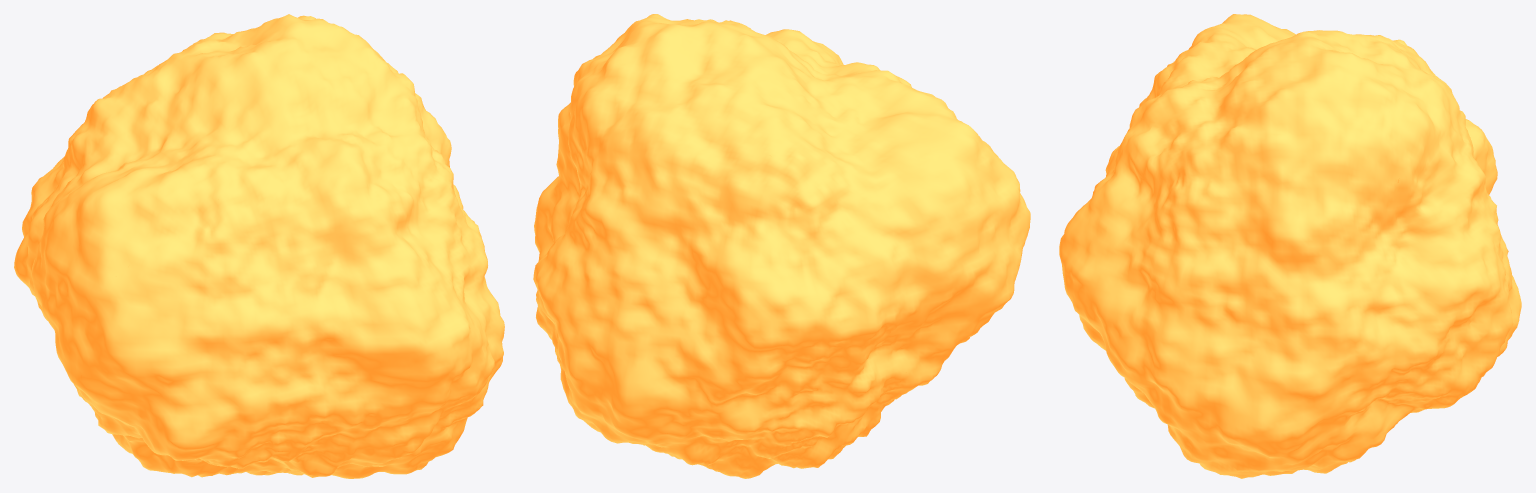
File: asteroid_01.glb
3 renders of one model, left to right at view 1: azimuth 30°, elevation 25°; view 2: azimuth 150°, elevation 25°; view 3: azimuth 270°, elevation 25°, orthographic. The views are drawn at different scales.
Visible parts, largest first — view 1: Cube; view 2: Cube; view 3: Cube.
Part boxes in pixels (x1,y1,x2,y2): Cube: (14, 14, 504, 478); Cube: (533, 14, 1030, 478); Cube: (1059, 14, 1521, 478).
Bounding box in the file's own units: 1.82 × 1.74 × 1.77.
Materials: 1 (1 with a texture image).
